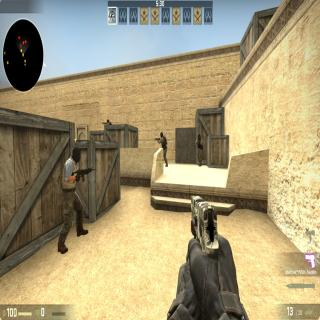CT-Body: (158, 131, 168, 165), (195, 133, 203, 166)
CT-Head: (159, 130, 165, 138), (197, 133, 201, 139), (106, 117, 109, 123)
T-Body: (57, 146, 83, 253)
T-Head: (70, 147, 82, 163)
